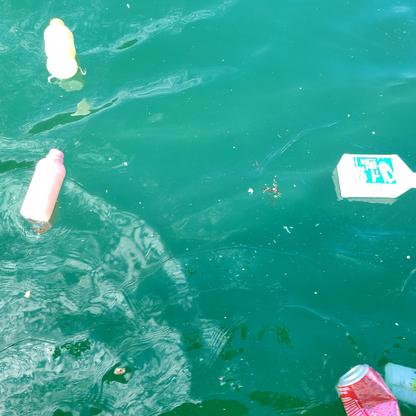can: (336, 363, 402, 416)
plastic bottle: (19, 148, 66, 223), (44, 15, 77, 78)
